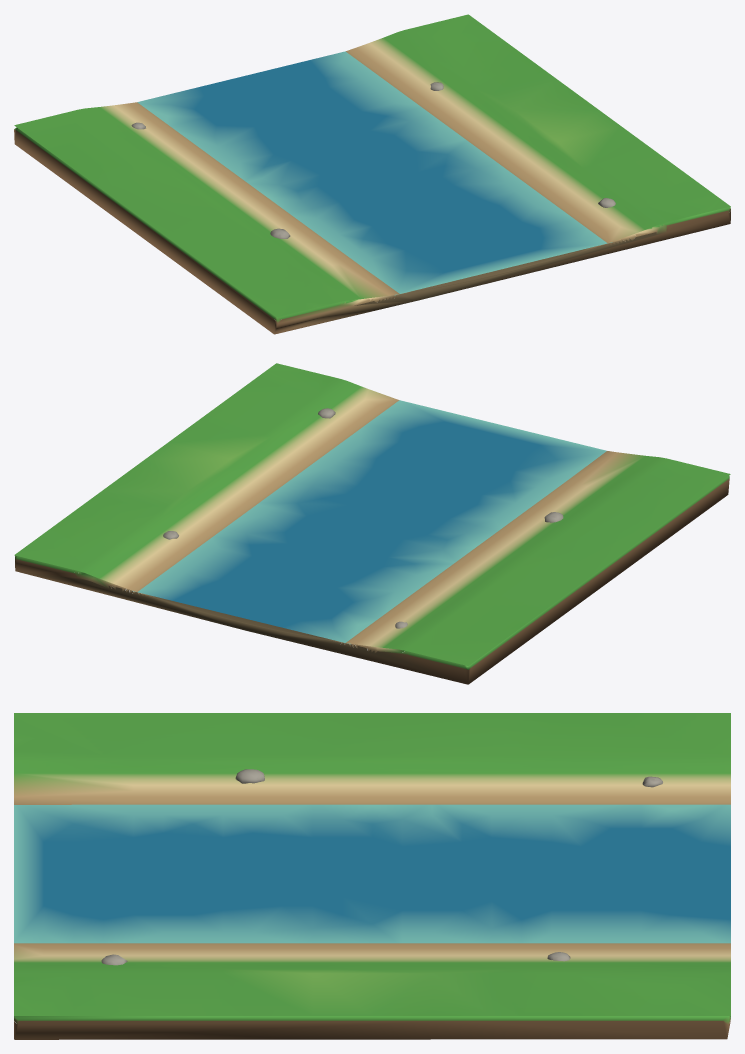
The model's file is river-straight.glb.
3 views of the same model, one above another, from view 1: azimuth 30°, elevation 25°; view 2: azimuth 150°, elevation 25°; view 3: azimuth 270°, elevation 25° (orthographic). The views are drawn at different scales.
Visible parts, largest first — view 1: bank-top, water, bank; view 2: bank-top, water, bank; view 3: bank-top, water, bank, pebbles.
Part boxes in pixels (x1=…): bank-top: x1=14, y1=14, x2=730, y2=317; water: x1=137, y1=51, x2=612, y2=295; bank: x1=14, y1=127, x2=730, y2=334; bank-top: x1=14, y1=363, x2=730, y2=665; water: x1=132, y1=400, x2=606, y2=644; bank: x1=15, y1=475, x2=729, y2=684; bank-top: x1=14, y1=713, x2=730, y2=1015; water: x1=14, y1=804, x2=730, y2=943; bank: x1=14, y1=1016, x2=730, y2=1039; pebbles: x1=101, y1=769, x2=662, y2=965.
Bounding box in the file's own units: 2 × 0.0868 × 2.
